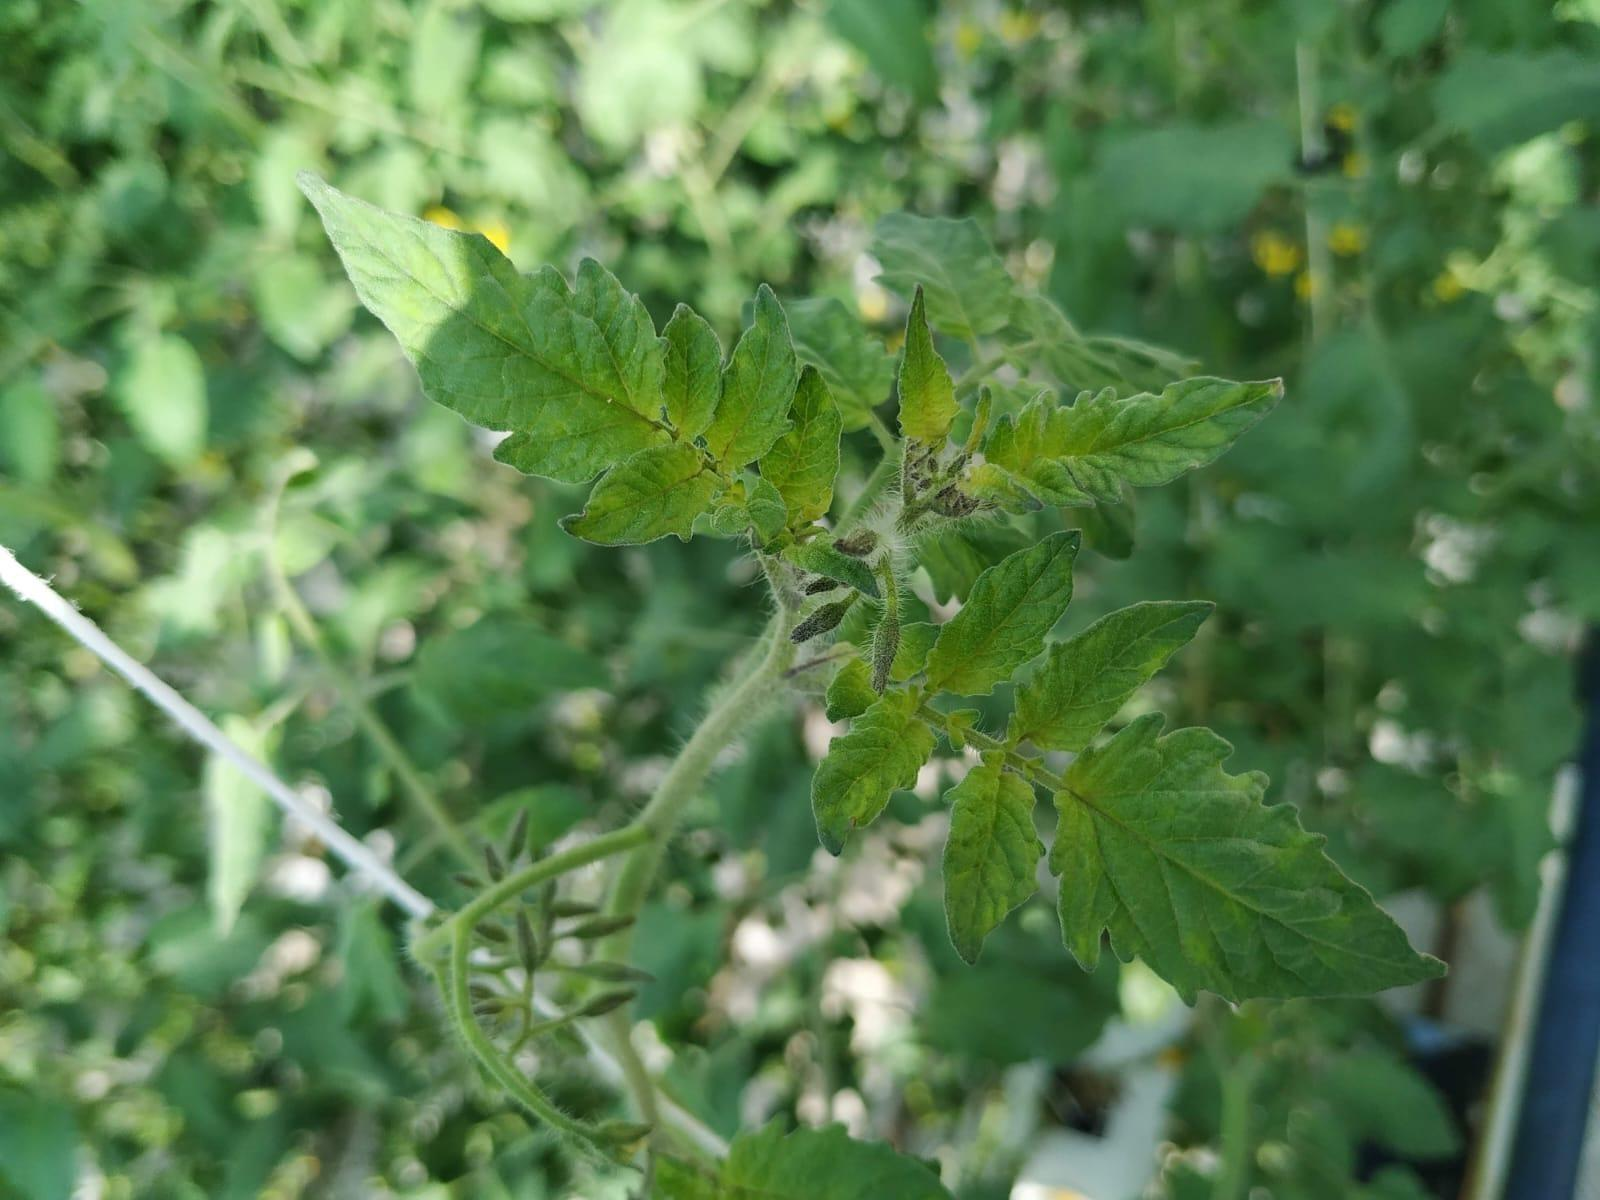Rugose leaf: (300, 175, 671, 482), (1049, 716, 1440, 1000), (984, 378, 1281, 507), (1009, 603, 1212, 750), (925, 531, 1078, 693), (944, 753, 1043, 963), (813, 691, 935, 853), (703, 285, 797, 475), (562, 441, 724, 546), (663, 303, 722, 441)
